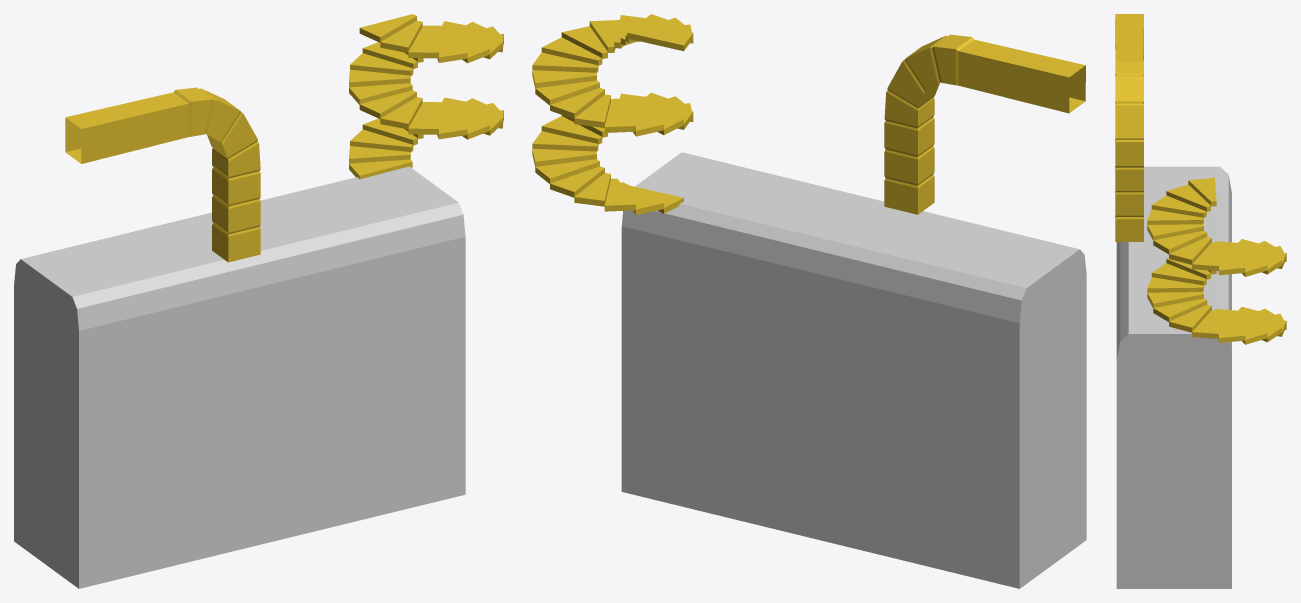
The model's file is maze1_4th_face.fbx.
The picture shows the model from 3 angles, left to right: view 1: azimuth 30°, elevation 25°; view 2: azimuth 150°, elevation 25°; view 3: azimuth 270°, elevation 25°; orthographic projection. The views are drawn at different scales.
Visible parts, largest first — view 1: Hedge_Straight_Cube.004, UnrealEdObject.005, Stone_Arch_Cube.005; view 2: Hedge_Straight_Cube.004, UnrealEdObject.005, Stone_Arch_Cube.005; view 3: Hedge_Straight_Cube.004, UnrealEdObject.005, Stone_Arch_Cube.005.
Part boxes in pixels (box(x1,y1,x2,y2)): Hedge_Straight_Cube.004: box(14, 166, 465, 588); UnrealEdObject.005: box(349, 14, 503, 179); Stone_Arch_Cube.005: box(65, 87, 260, 262); Hedge_Straight_Cube.004: box(621, 152, 1086, 588); UnrealEdObject.005: box(532, 14, 693, 215); Stone_Arch_Cube.005: box(884, 34, 1085, 214); Hedge_Straight_Cube.004: box(1116, 166, 1231, 588); UnrealEdObject.005: box(1147, 177, 1286, 344); Stone_Arch_Cube.005: box(1115, 14, 1143, 241).
Bounding box in the file's own units: 7422 × 6926 × 2628.
